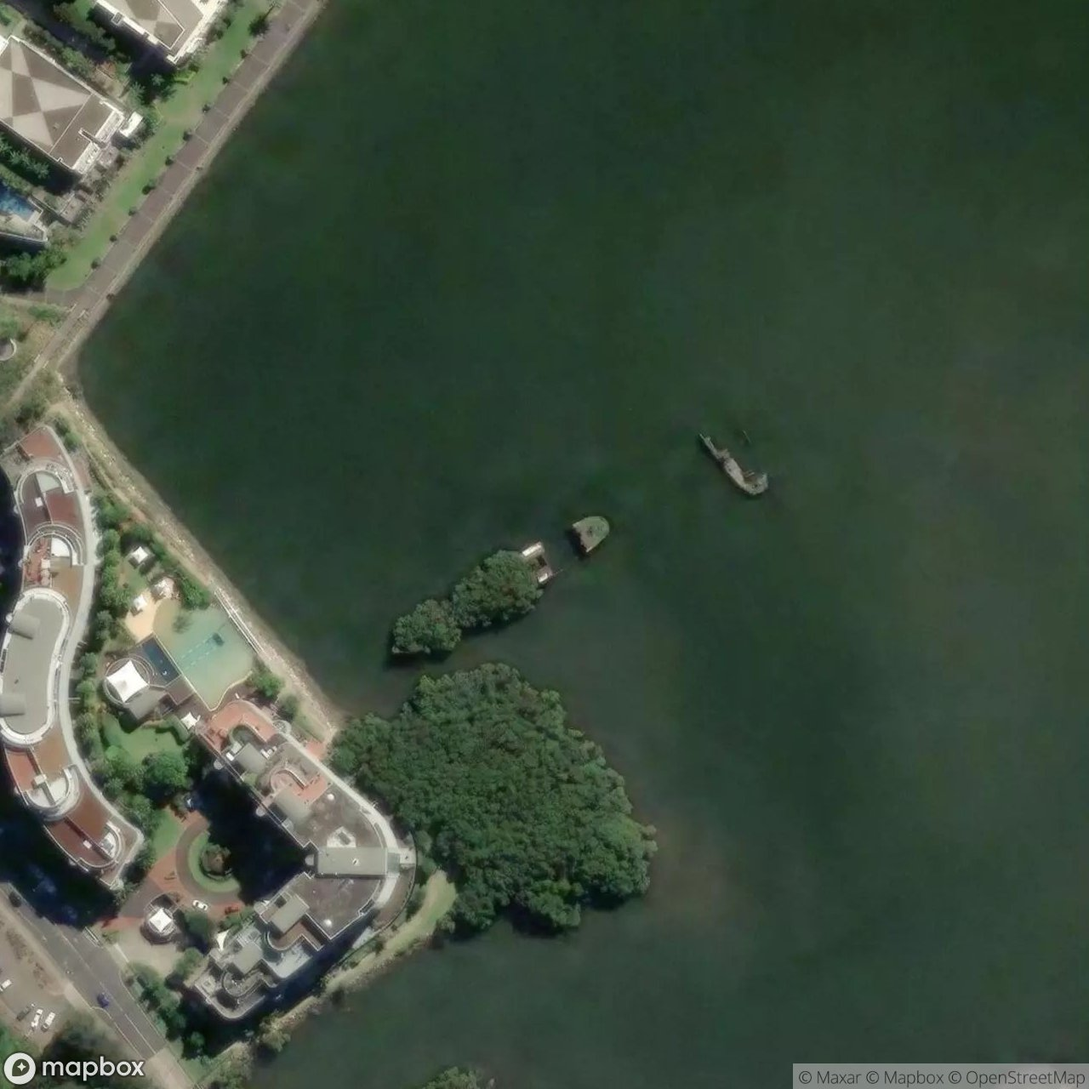Wreck: (356, 518, 635, 656), (671, 411, 796, 495)
